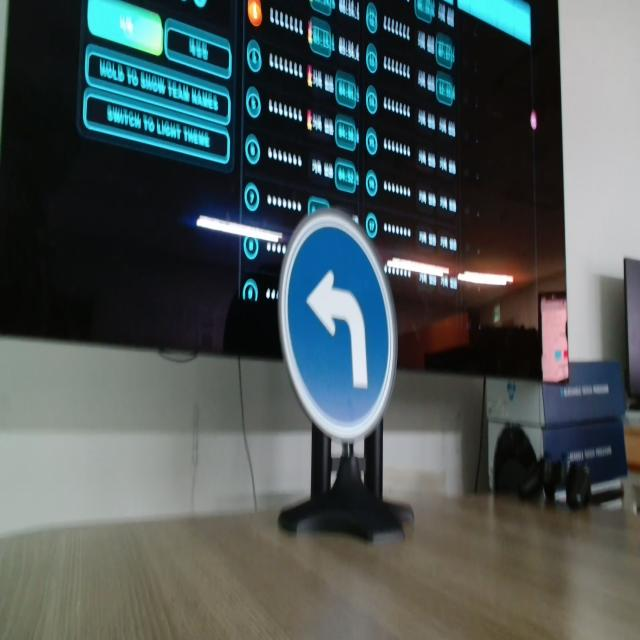left_direction: (270, 200, 406, 449)
